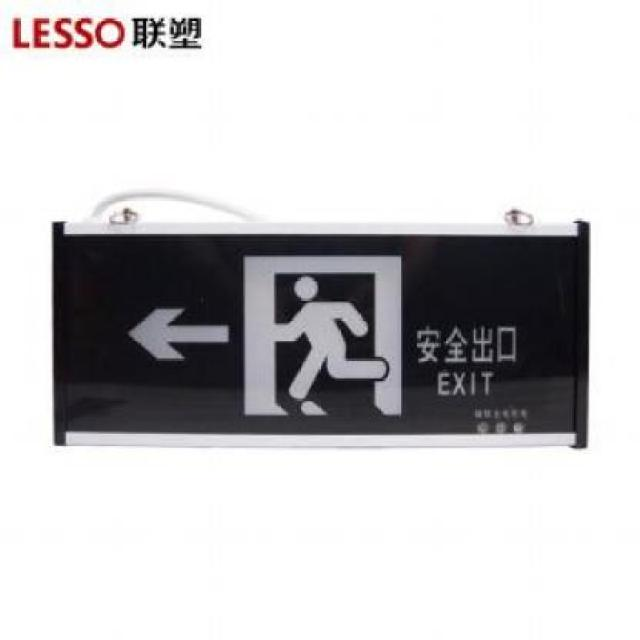exit_sign: (40, 204, 605, 460)
